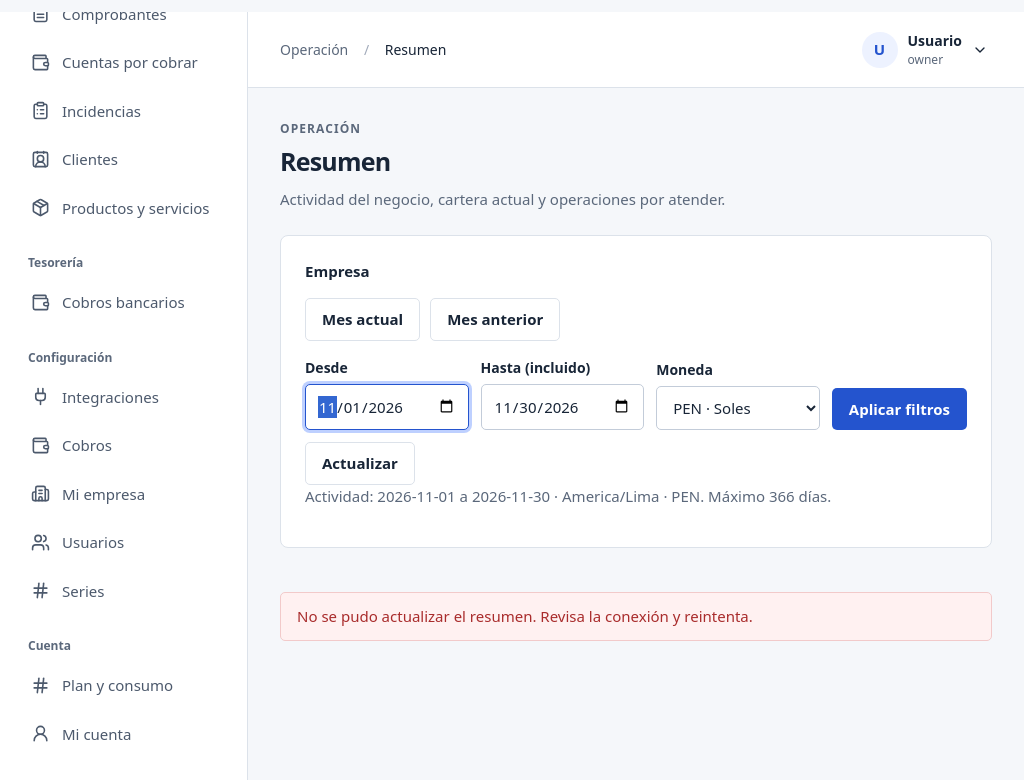
Scenario: solo owner ve Series en navegacion: owner
(page scrolled)
Expected: the link "Productos y servicios" is shown, [31, 198, 210, 218]
Click the link "Series". click: [68, 590]
box: [31, 580, 104, 600]
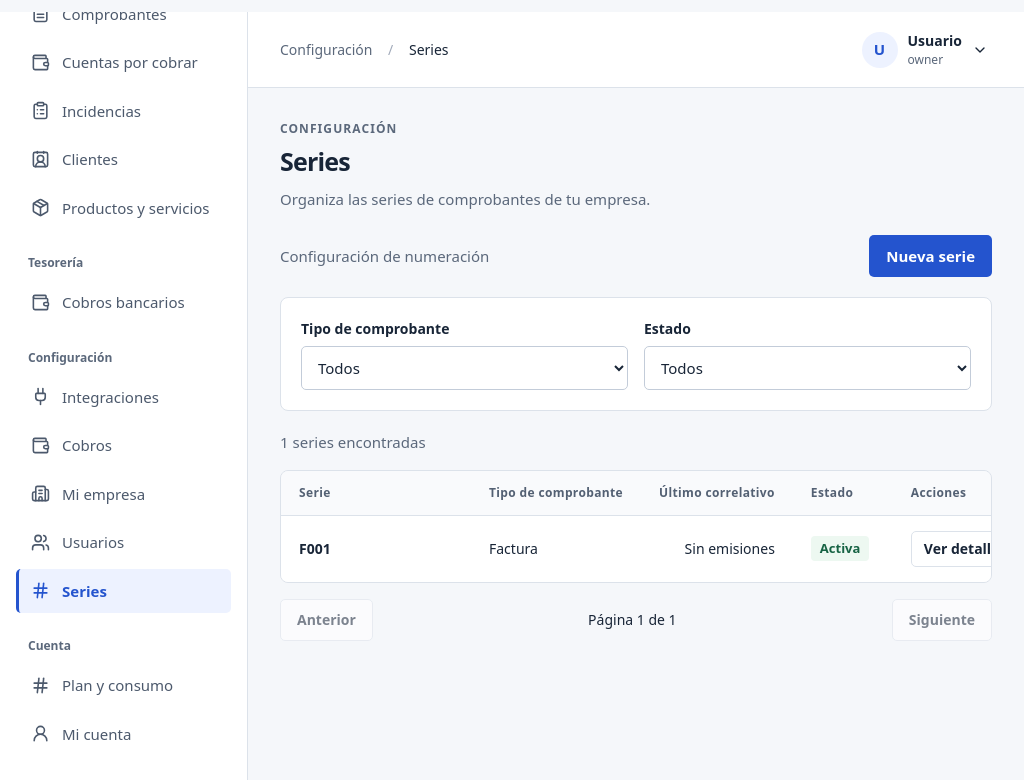
Now the text "F001" is shown, box [281, 516, 471, 582]
